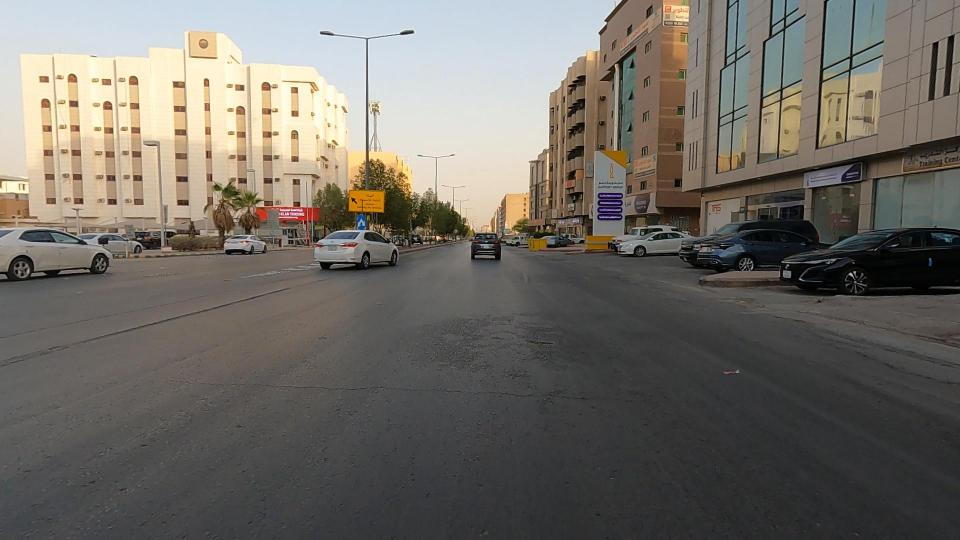POTHOLES: (35, 278, 294, 381), (176, 256, 343, 332)
